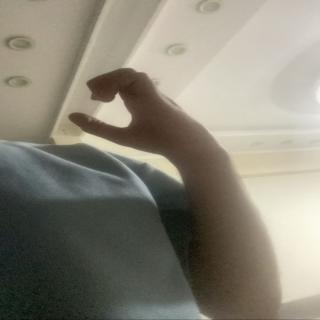JEEM: (52, 66, 225, 155)
